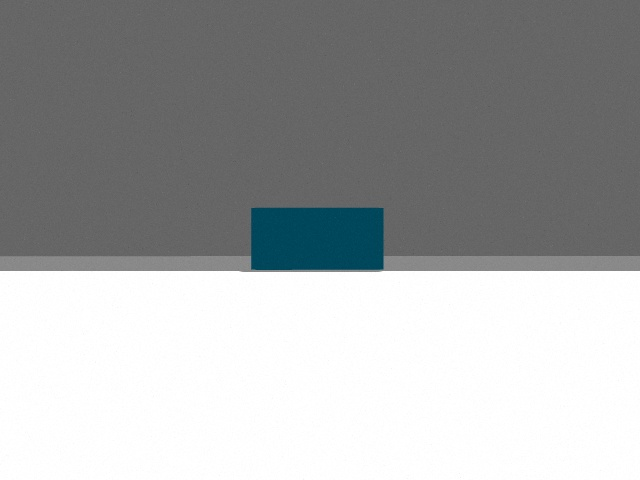blue_drop_zone: (251, 208, 384, 270)
